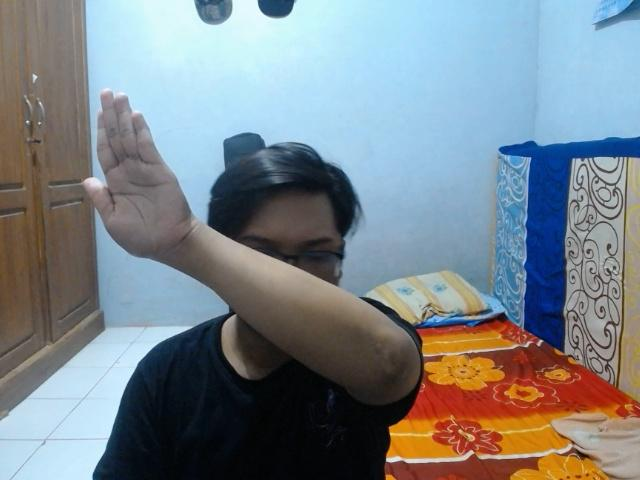Release: (77, 83, 198, 263)
